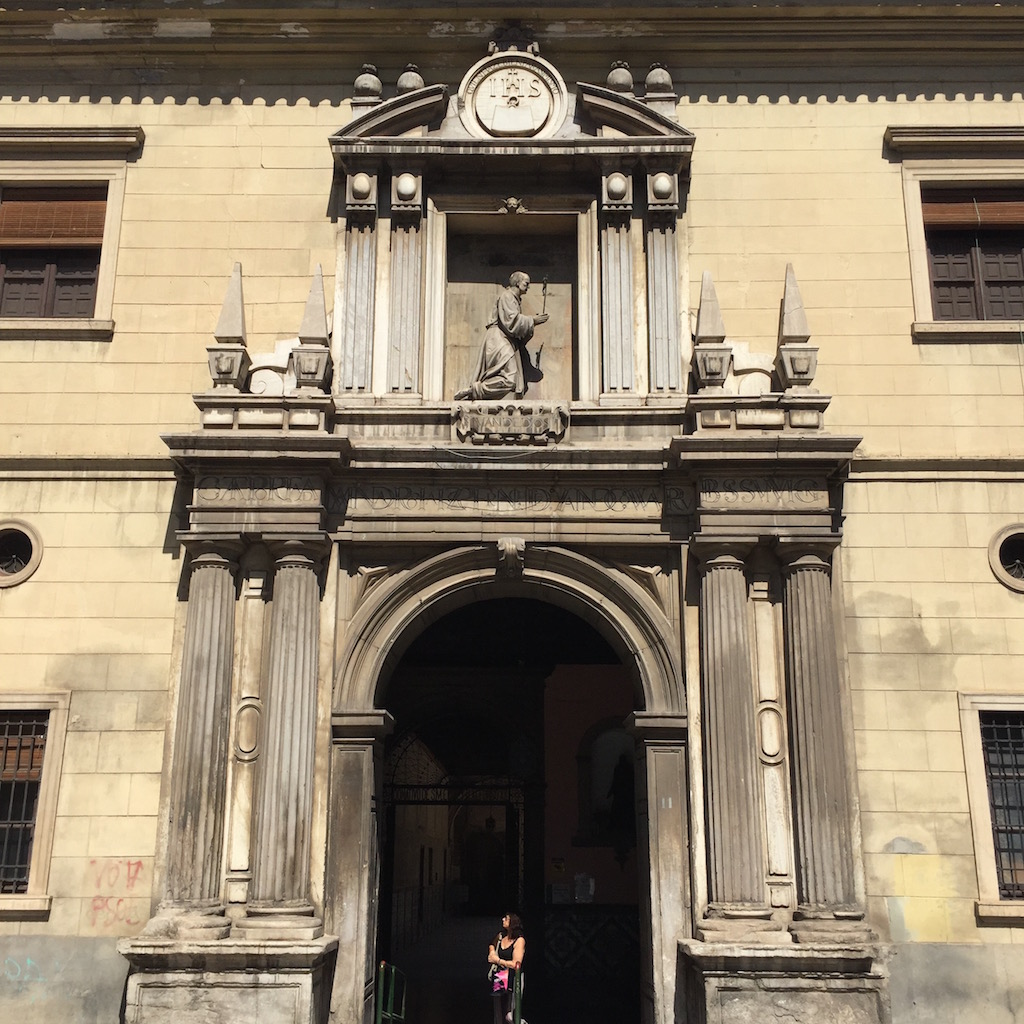arco-medio-punto: (327, 538, 693, 758)
fronton-partido: (322, 79, 705, 166)
vano-adintelado: (422, 191, 601, 404), (1, 143, 145, 325), (897, 141, 1024, 328)
